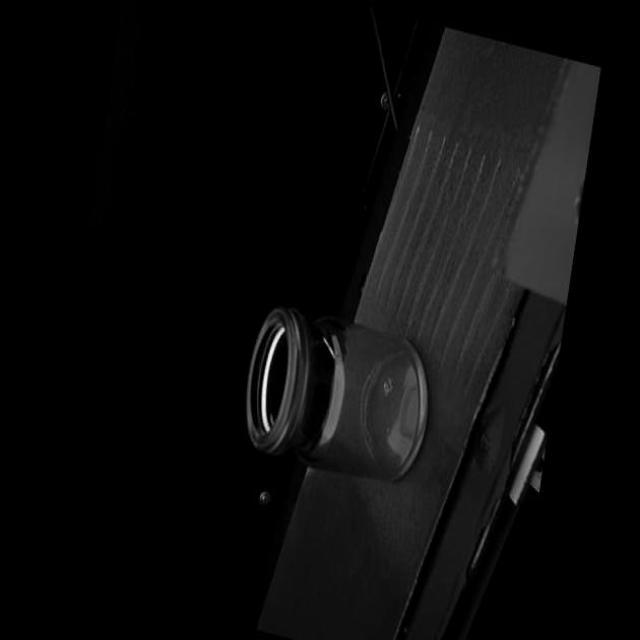defect: (322, 333, 336, 359)
glass: (236, 292, 438, 492)
